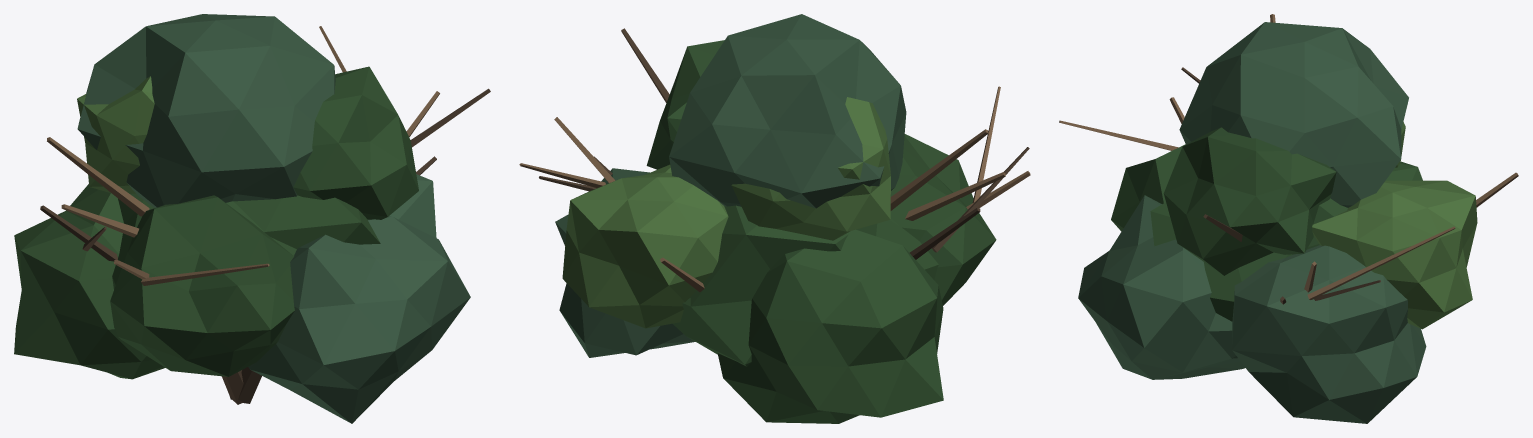
Rendered from shrub_wild.glb.
The picture shows the model from 3 angles, left to right: view 1: azimuth 30°, elevation 25°; view 2: azimuth 150°, elevation 25°; view 3: azimuth 270°, elevation 25°; orthographic projection. The views are drawn at different scales.
Visible parts, largest first — view 1: shrub_wild; view 2: shrub_wild; view 3: shrub_wild.
Boxes of the visible parts, box(x1,y1,x2,y2) form: shrub_wild: box(14, 14, 490, 423); shrub_wild: box(519, 14, 1030, 423); shrub_wild: box(1059, 14, 1518, 423).
Bounding box in the file's own units: 1.81 × 1.57 × 1.89.
1 material, 1 textured.
